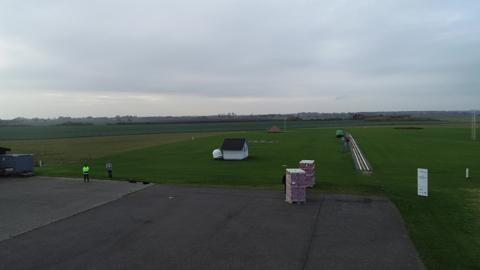RockwoolPallet: (298, 158, 315, 188)
